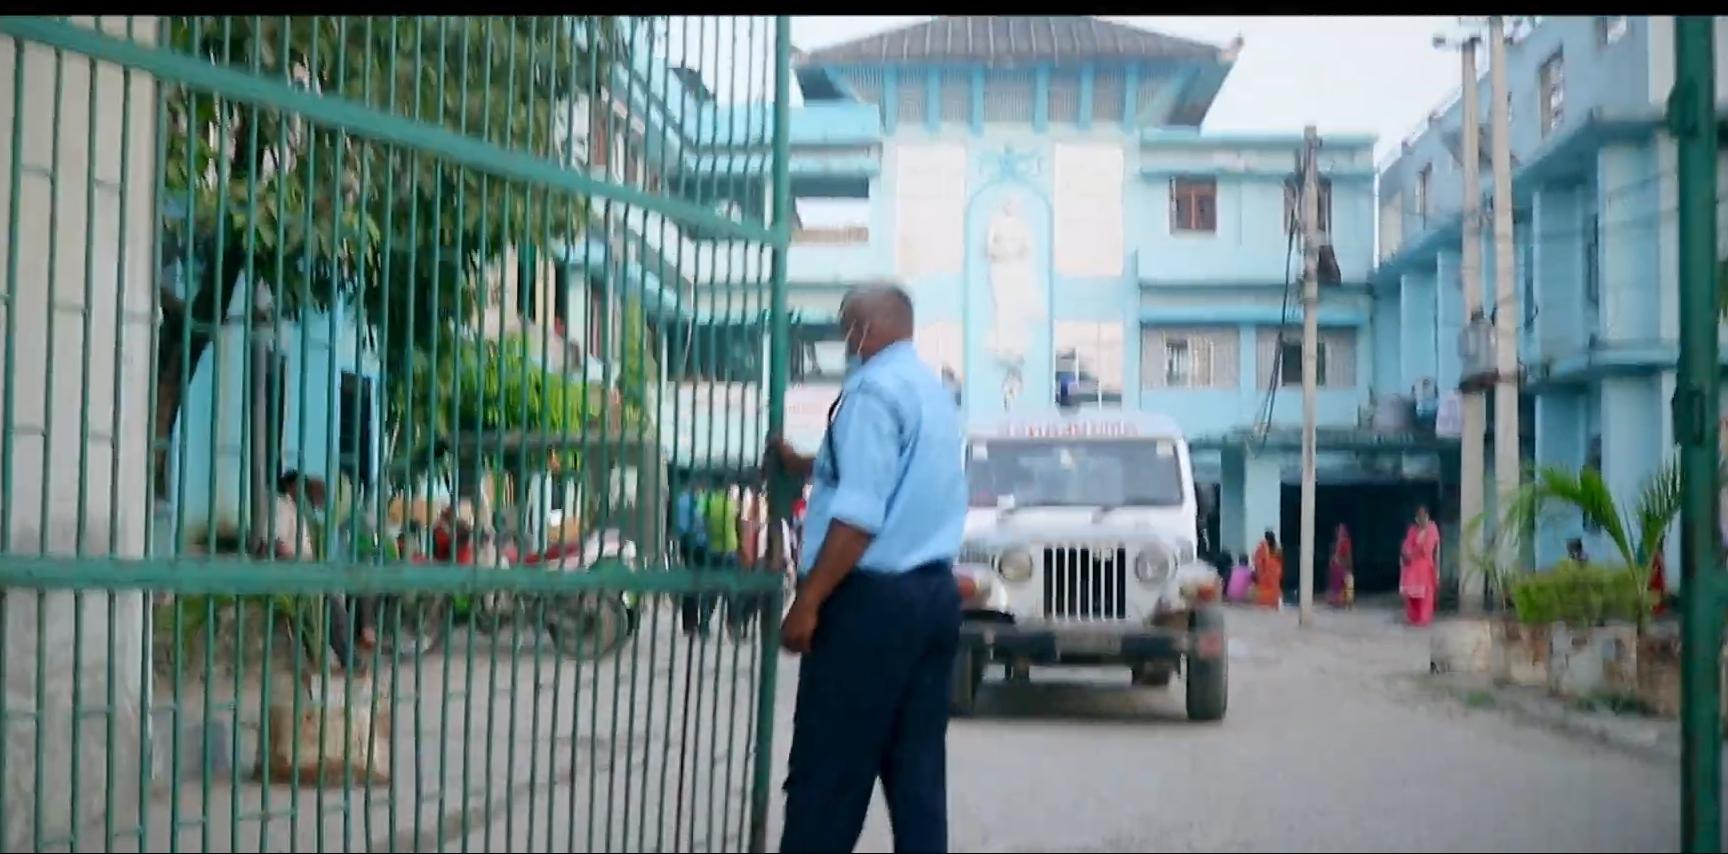ambulance: (943, 368, 1244, 726)
